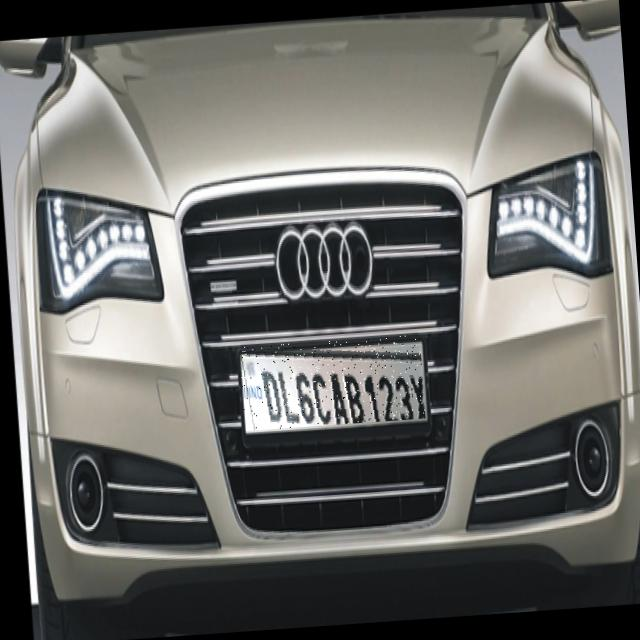Plate: (240, 336, 426, 432)
